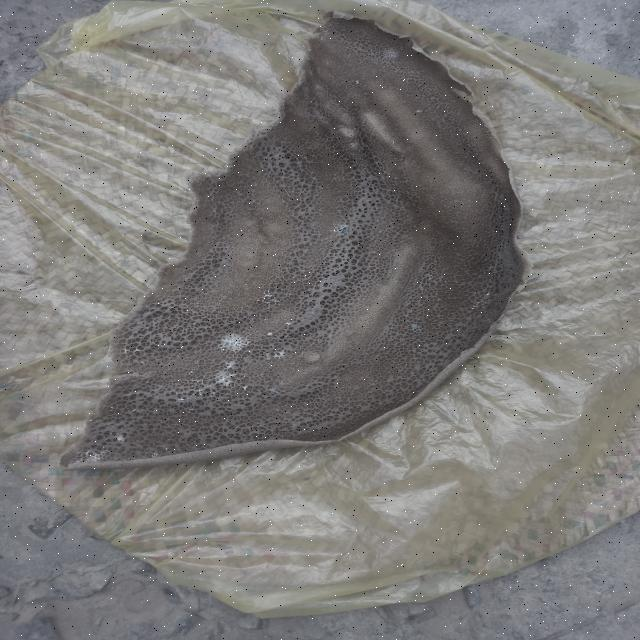injera_mold: (213, 328, 251, 354), (208, 367, 240, 390), (67, 452, 106, 466), (256, 289, 282, 308), (378, 45, 401, 61), (268, 346, 288, 362), (335, 222, 352, 239), (407, 322, 424, 336), (421, 269, 437, 281), (111, 433, 128, 444), (226, 358, 240, 371)
